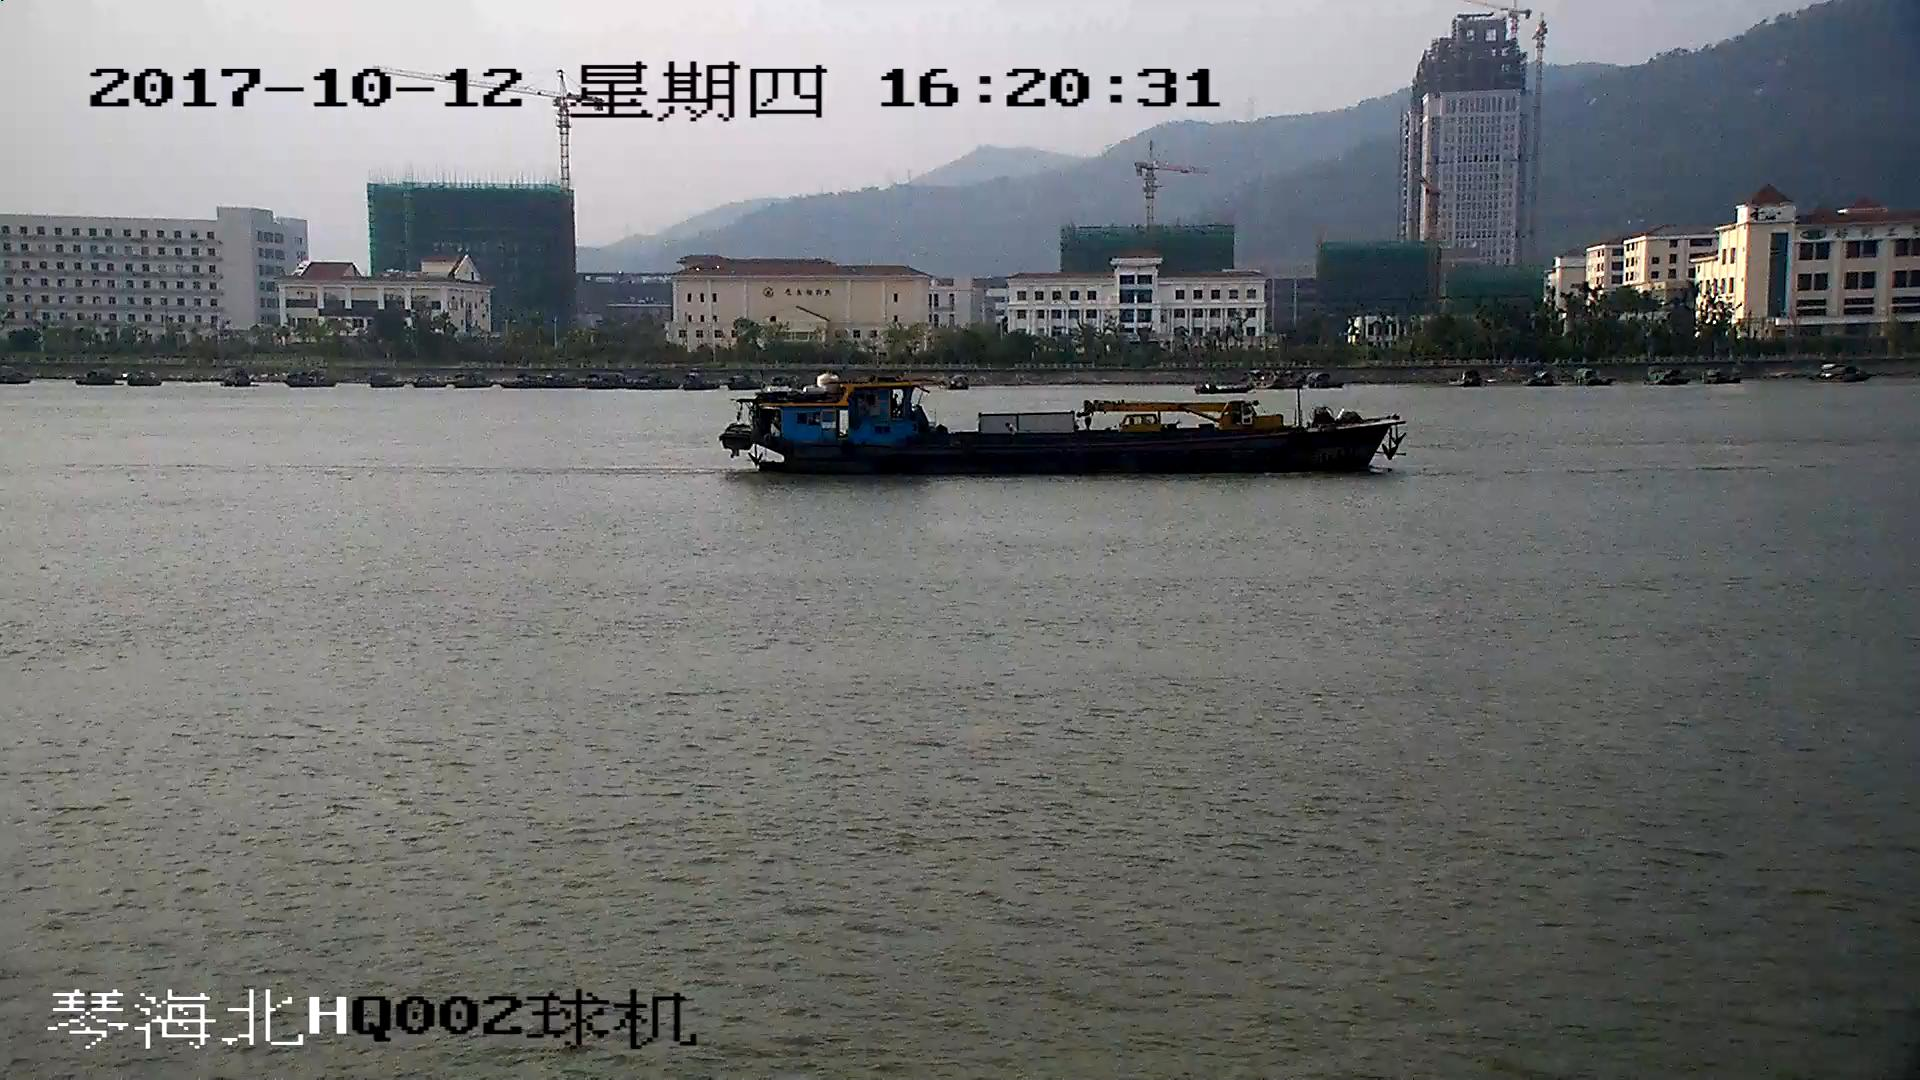fishing boat: (718, 372, 1400, 479)
